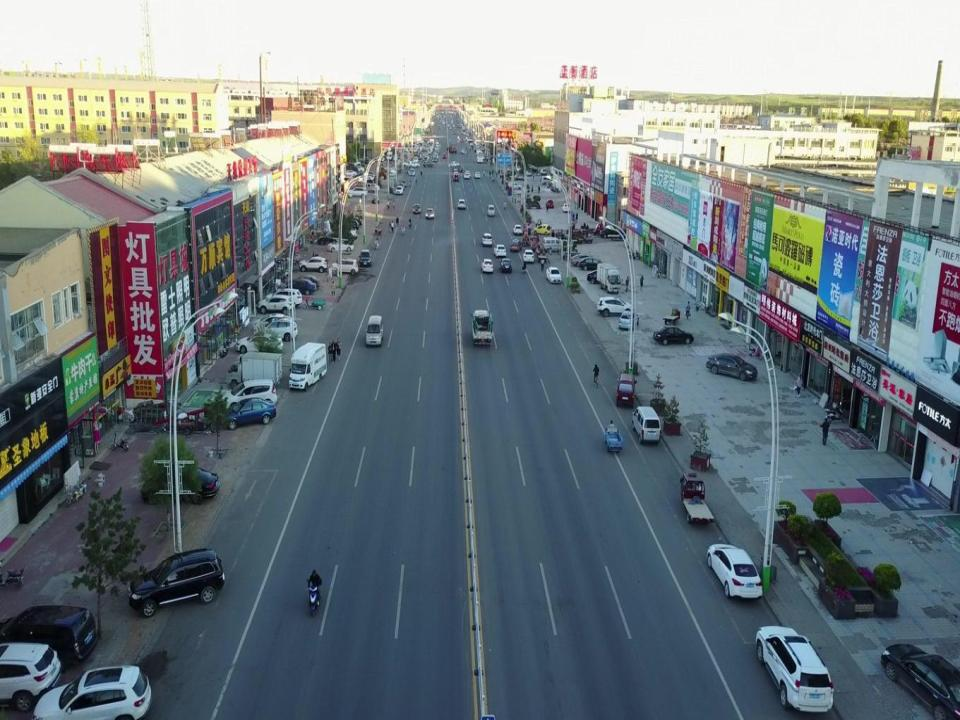bus: (516, 166, 524, 180)
car: (754, 626, 836, 713), (30, 663, 153, 720), (128, 546, 225, 618), (880, 642, 960, 719), (0, 641, 63, 712), (707, 543, 763, 601), (139, 466, 221, 504), (220, 378, 278, 412), (222, 397, 276, 431), (705, 352, 758, 382), (236, 331, 283, 354), (256, 319, 298, 342), (252, 312, 294, 332), (652, 325, 694, 345), (597, 296, 633, 317), (257, 294, 294, 314), (266, 288, 303, 308), (284, 278, 316, 296), (288, 274, 320, 290), (587, 268, 619, 284), (331, 258, 359, 275), (298, 256, 327, 272), (618, 310, 639, 328), (317, 232, 348, 244), (578, 257, 606, 270), (570, 253, 598, 266), (327, 239, 354, 251), (545, 266, 562, 284), (599, 227, 624, 238), (347, 186, 368, 198), (358, 248, 371, 266), (499, 258, 513, 273), (533, 224, 551, 235), (481, 258, 493, 273), (523, 248, 534, 264), (509, 239, 522, 252), (494, 244, 506, 257), (481, 232, 492, 246), (366, 183, 380, 193), (512, 224, 522, 235), (425, 208, 435, 219), (457, 198, 466, 210), (509, 182, 522, 190), (412, 203, 421, 214), (422, 161, 434, 168), (562, 203, 571, 212), (371, 194, 380, 203), (395, 185, 403, 195), (409, 161, 420, 168), (403, 160, 414, 167), (450, 161, 460, 167), (474, 171, 481, 178), (400, 179, 406, 187), (453, 174, 459, 182), (409, 168, 415, 176), (464, 172, 470, 179), (452, 172, 459, 178), (526, 169, 532, 176), (465, 170, 471, 176)
truck: (226, 352, 283, 390), (596, 262, 622, 294), (471, 309, 493, 346), (364, 183, 377, 193)
van: (0, 602, 98, 666), (288, 342, 326, 390), (631, 405, 661, 445), (615, 373, 638, 408), (364, 316, 384, 347), (543, 236, 565, 253), (541, 175, 555, 185), (487, 204, 495, 217), (546, 199, 554, 208)
